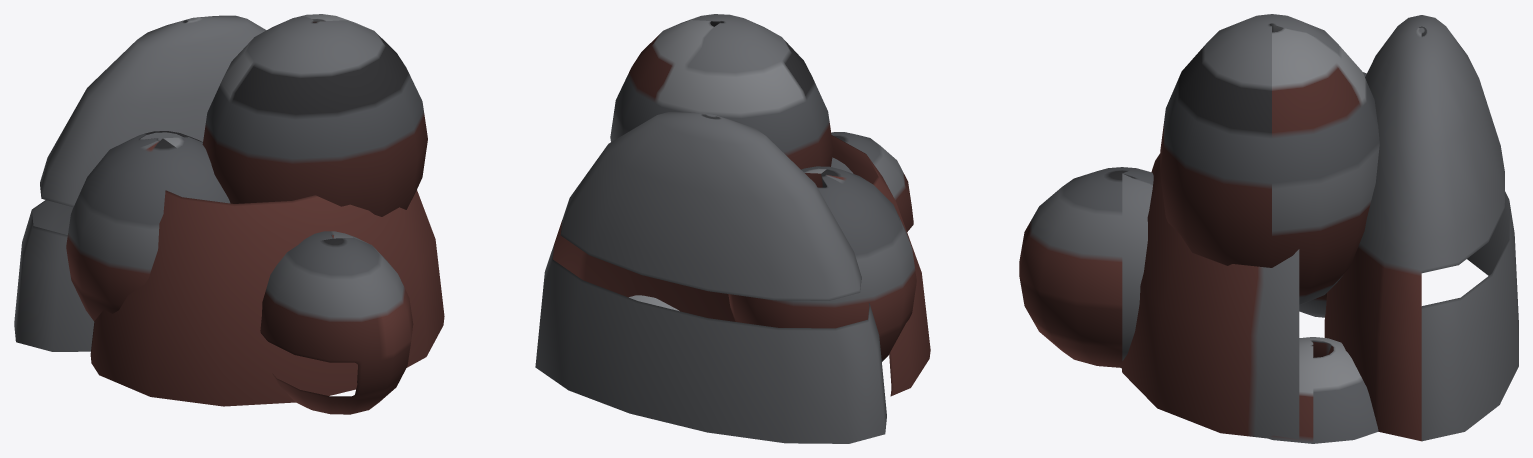
Rendered from section-0.obj.
3 views of the same model, side by side, from view 1: azimuth 30°, elevation 25°; view 2: azimuth 150°, elevation 25°; view 3: azimuth 270°, elevation 25° (orthographic). The views are drawn at different scales.
Bounding box in the file's own units: 1 × 0.8378 × 1.21.
